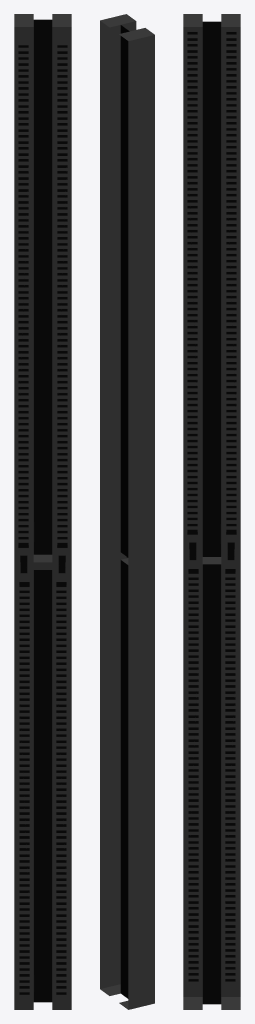
File: 内存条插口.FBX
The picture shows the model from 3 angles, left to right: view 1: azimuth 90°, elevation 25°; view 2: azimuth 210°, elevation 25°; view 3: azimuth 270°, elevation 25°; orthographic projection.
Parts seen in each view (by area): view 1: 内存条插口; view 2: 内存条插口; view 3: 内存条插口.
Part boxes in pixels (box(x1,y1,x2,y2)): 内存条插口: box(14, 14, 71, 1009); 内存条插口: box(100, 14, 154, 1009); 内存条插口: box(183, 14, 240, 1009).
Bounding box in the file's own units: 3.73 × 130 × 6.92.
1 material, 1 textured.
